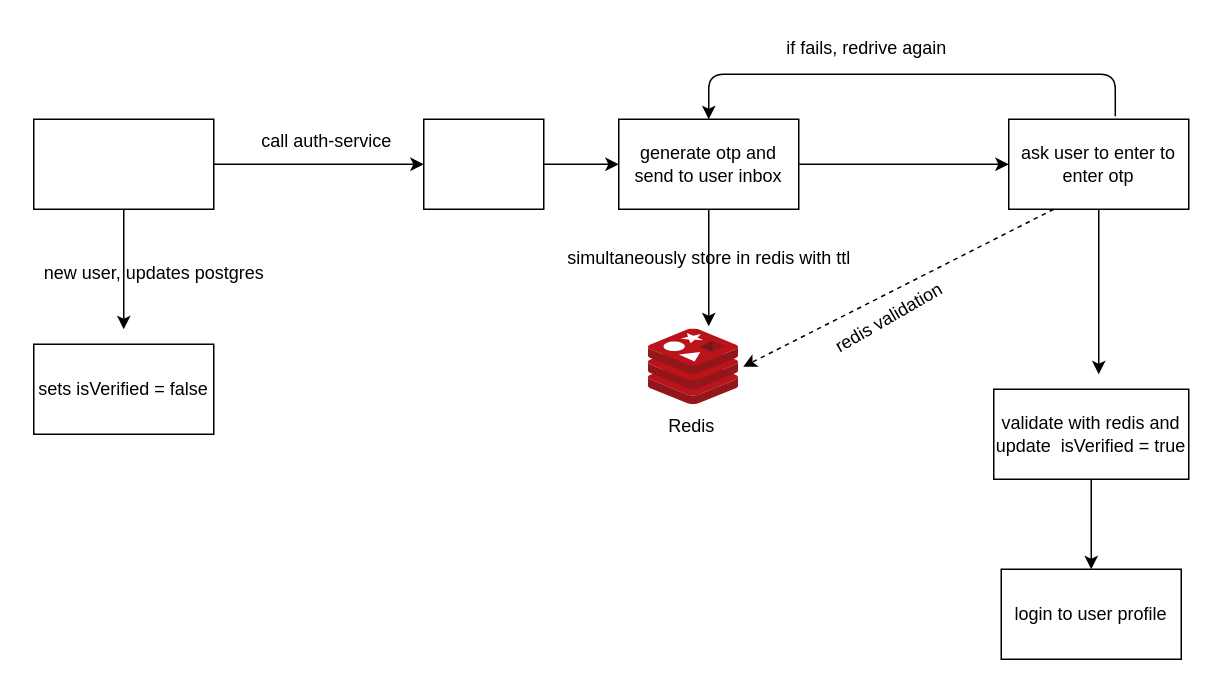
Some shapes in this 1215 by 686 pixel diagram are drawn without their labels. The centre of each missing label's shape, as x and y in pixels:
"store hash pw in db" goes at (x=483, y=163).
"User enters email and pw" goes at (x=123, y=163).
